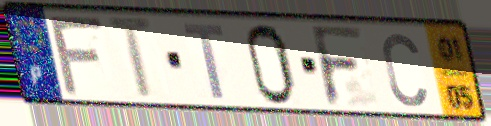0: (243, 21, 299, 107)
C: (379, 29, 429, 109)
F: (307, 23, 367, 109), (47, 14, 108, 98)
T: (103, 13, 159, 103), (180, 20, 228, 102)
